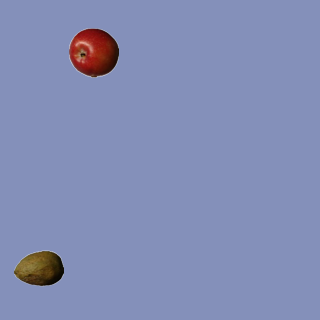Apple Braeburn: (68, 27, 118, 77)
Papaya: (13, 243, 63, 293)
